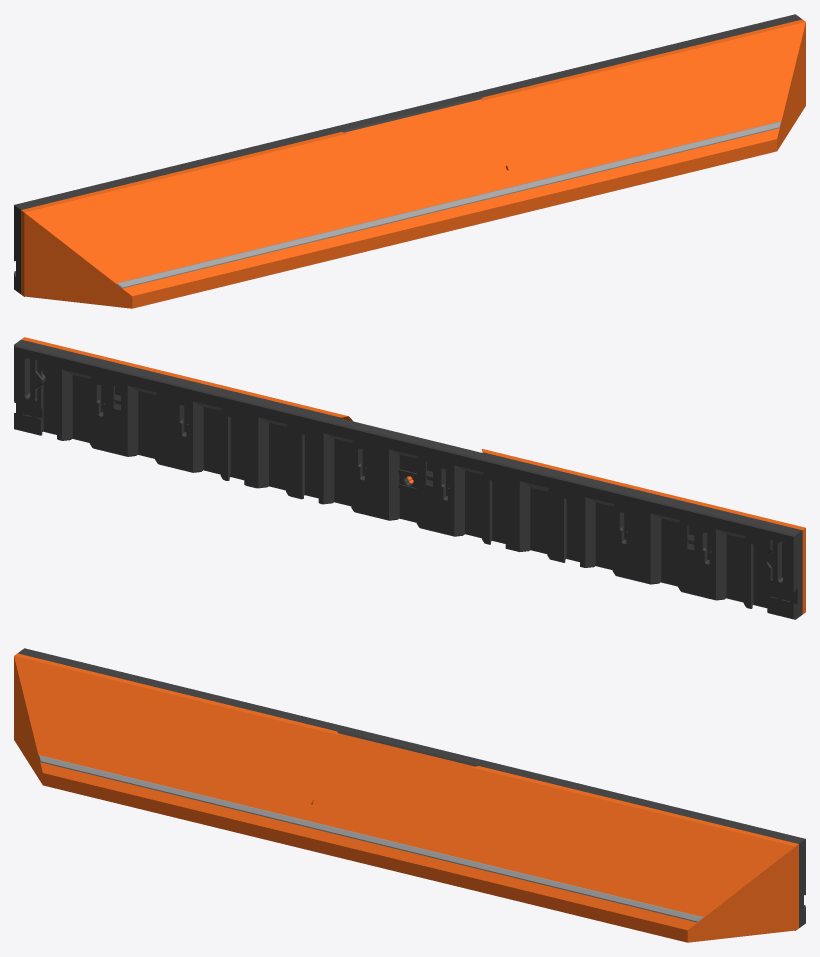
The model's file is Faceplate_ClassicPro_3W-05H.lib.glb.
3 renders of one model, top to bottom at view 1: azimuth 30°, elevation 25°; view 2: azimuth 150°, elevation 25°; view 3: azimuth 330°, elevation 25°, orthographic.
Visible parts, largest first — view 1: Faceplate_ClassicPro_3W-05H; view 2: Faceplate_ClassicPro_3W-05H; view 3: Faceplate_ClassicPro_3W-05H.
Part boxes in pixels (<box>): Faceplate_ClassicPro_3W-05H: <box>14,14,805,308</box>; Faceplate_ClassicPro_3W-05H: <box>14,337,805,619</box>; Faceplate_ClassicPro_3W-05H: <box>14,648,805,942</box>.
Size of the model in its own units: 263 by 27.16 by 29.5.
